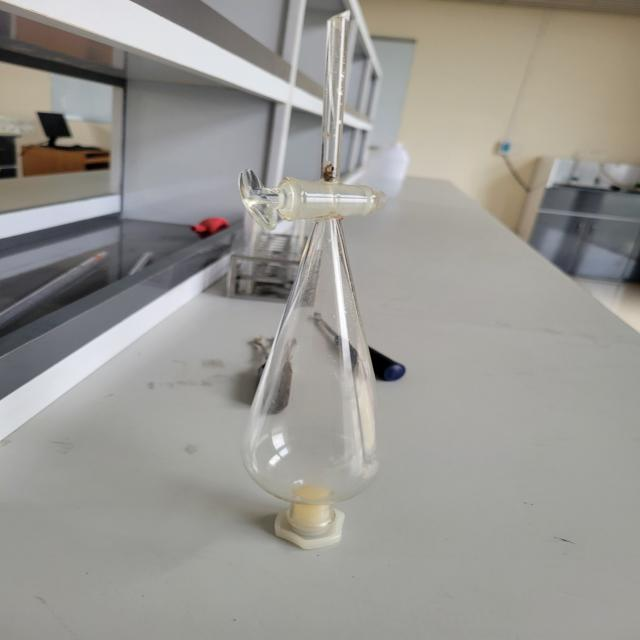Separating_Funnel: (216, 0, 443, 579)
